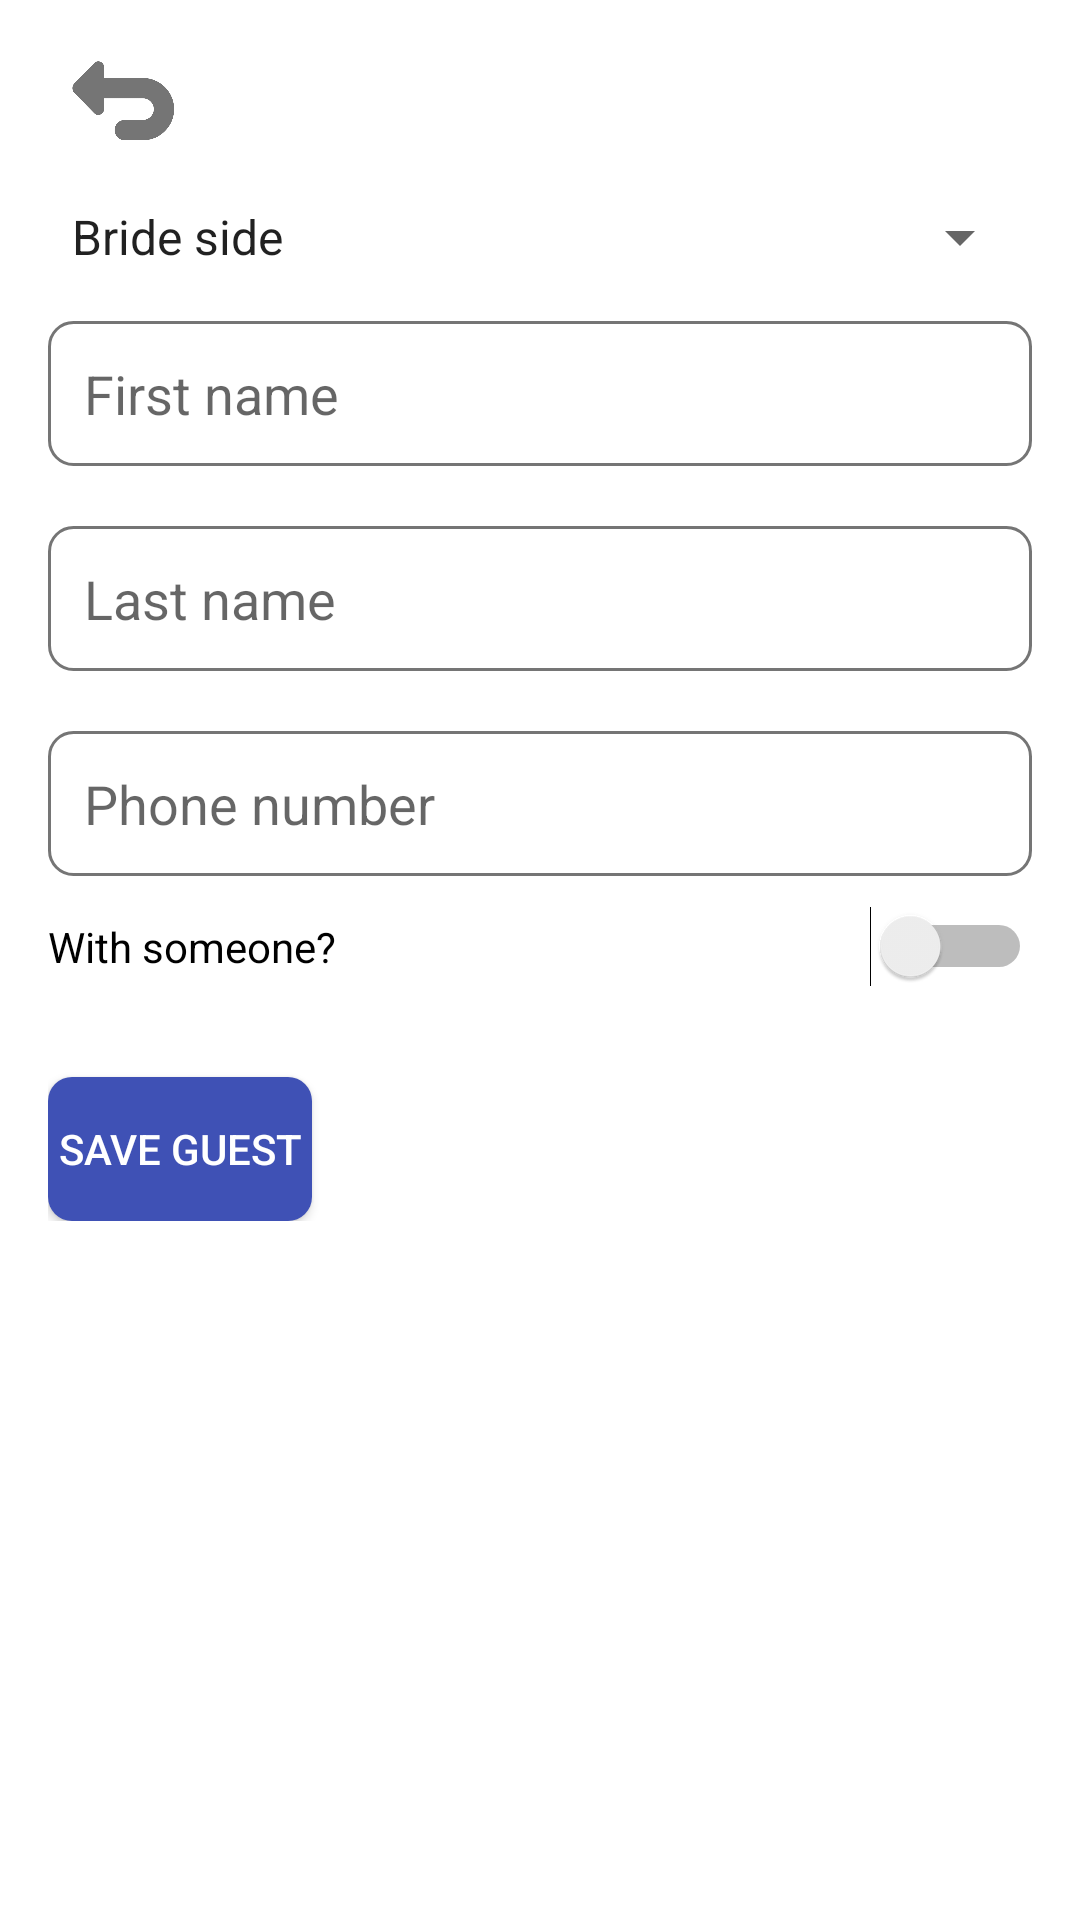

Named icons in this screenshot (1080px×1920px) and their bounding boxes, region(x1, y1, x2, y2):
back arrow: region(72, 61, 174, 140)
